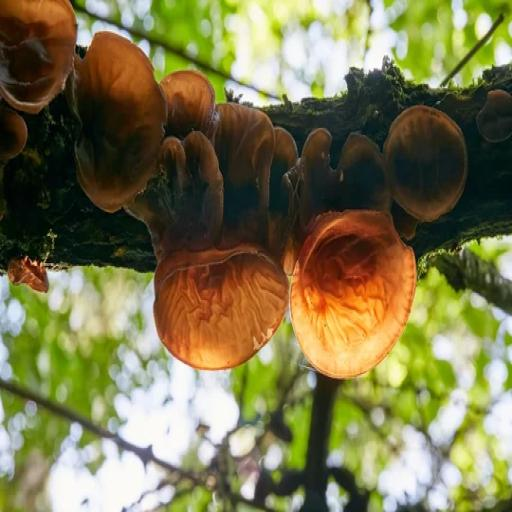Wood Ear Mushroom: (287, 210, 419, 382), (67, 25, 170, 214), (150, 242, 286, 375), (289, 116, 396, 236), (130, 125, 222, 263), (204, 91, 277, 241), (380, 108, 467, 222), (2, 0, 75, 112), (252, 115, 304, 210), (157, 71, 217, 138), (476, 88, 512, 145)
